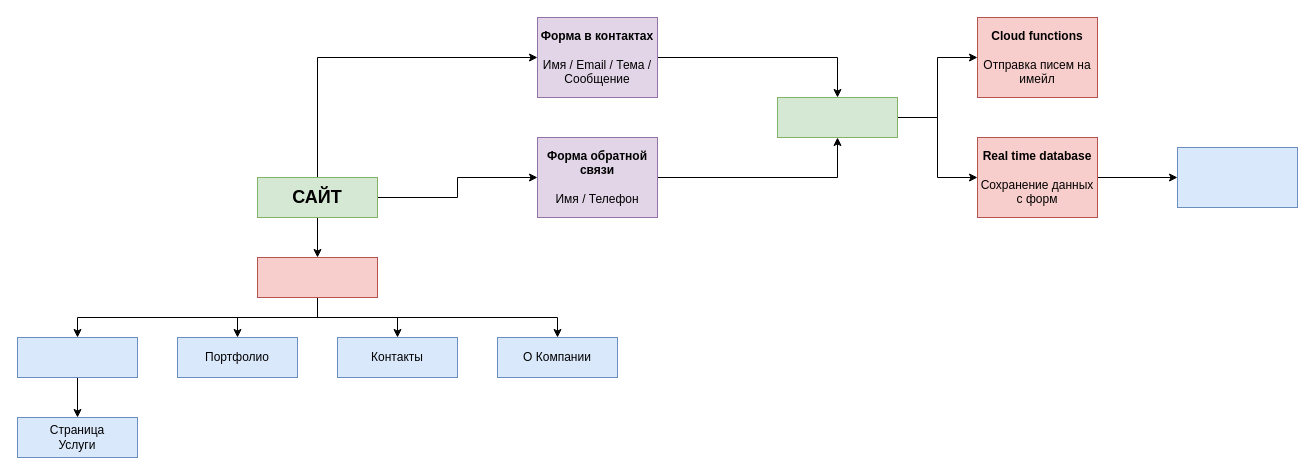
The diagram is 1315 pixels wide and 475 high, and some of its shapes have lost their labels. The shapes that lost their labels are listed below. From the top down, each one's centre as x and y in pixels, then its label:
At pixel 837 117: "Firebase".
At pixel 1237 177: "Админка Для просмотра базы".
At pixel 317 277: "Главная".
At pixel 77 357: "Страница Категории Услуг".
